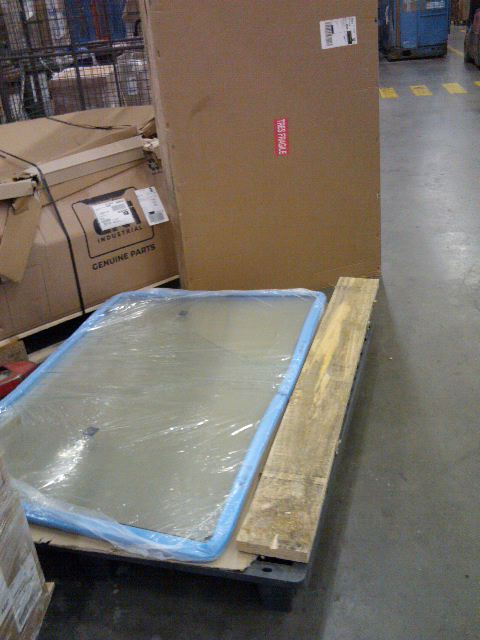label: (321, 13, 361, 53), (88, 199, 135, 232), (135, 182, 170, 225)
package: (145, 0, 381, 292), (0, 99, 177, 342)
